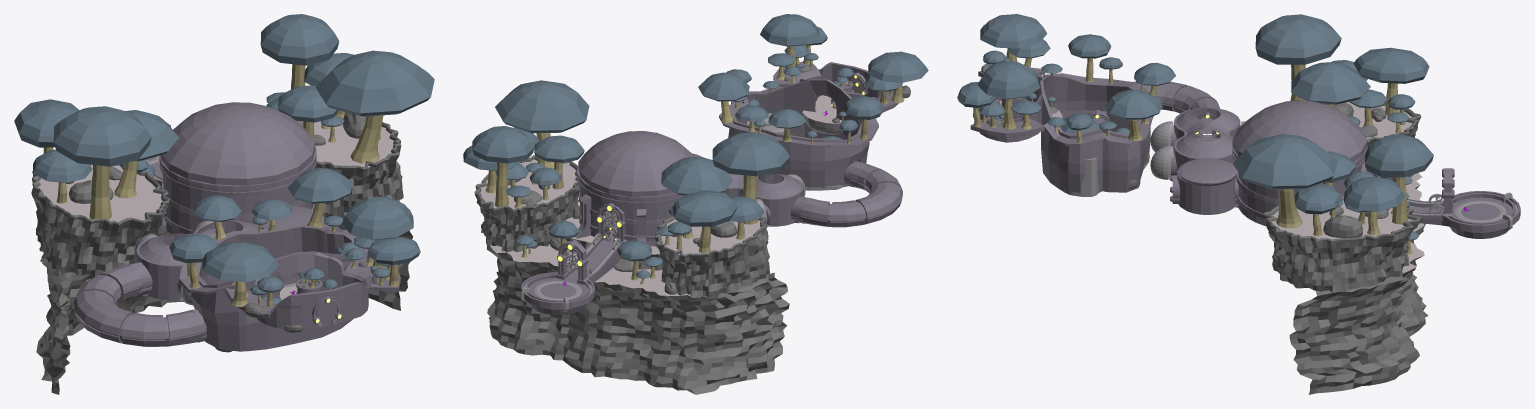
The model's file is Templo.fbx.
The picture shows the model from 3 angles, left to right: view 1: azimuth 30°, elevation 25°; view 2: azimuth 150°, elevation 25°; view 3: azimuth 270°, elevation 25°; orthographic projection. The views are drawn at different scales.
Visible parts, largest first — view 1: Circle, Circle.034, Morrinho, Circle.015, Torus.001, Circle.012, Circle.036, Montanha, Morrinho2, Circle.024, Circle.037, Circle.042 (+18 smaller); view 2: Montanha, Circle, Circle.034, Morrinho, Morrinho2, Circle.015, Torus.001, Circle.012, Circle.024, Circle.037, Circle.011, Circle.008 (+15 smaller); view 3: Montanha, Circle, Circle.034, Morrinho2, Circle.015, Circle.012, Circle.026, Circle.037, Circle.024, Circle.008, Circle.011, Circle.046 (+16 smaller).
Boxes of the visible parts, left/top/right/bottom form: Circle: left=145, top=102, right=316, bottom=233; Circle.034: left=179, top=222, right=368, bottom=351; Morrinho: left=31, top=164, right=169, bottom=276; Circle.015: left=315, top=50, right=434, bottom=163; Torus.001: left=73, top=263, right=206, bottom=346; Circle.012: left=53, top=106, right=151, bottom=219; Circle.036: left=225, top=252, right=400, bottom=328; Montanha: left=36, top=200, right=413, bottom=394; Morrinho2: left=314, top=121, right=403, bottom=218; Circle.024: left=260, top=14, right=339, bottom=89; Circle.037: left=136, top=220, right=262, bottom=300; Circle.042: left=202, top=242, right=278, bottom=306; Montanha: left=486, top=217, right=789, bottom=394; Circle: left=520, top=131, right=694, bottom=315; Circle.034: left=719, top=79, right=878, bottom=188; Morrinho: left=654, top=216, right=769, bottom=297; Morrinho2: left=474, top=155, right=579, bottom=252; Circle.015: left=495, top=80, right=589, bottom=168; Torus.001: left=797, top=161, right=902, bottom=227; Circle.012: left=712, top=132, right=789, bottom=224; Circle.024: left=472, top=126, right=534, bottom=206; Circle.037: left=723, top=172, right=803, bottom=226; Circle.011: left=673, top=190, right=737, bottom=252; Circle.008: left=661, top=157, right=733, bottom=195; Montanha: left=1289, top=173, right=1428, bottom=394; Circle: left=1232, top=100, right=1520, bottom=238; Circle.034: left=1038, top=73, right=1153, bottom=194; Morrinho2: left=1263, top=196, right=1421, bottom=292; Circle.015: left=1233, top=134, right=1337, bottom=228; Circle.012: left=1255, top=14, right=1341, bottom=100; Circle.026: left=1177, top=158, right=1237, bottom=214; Circle.037: left=1174, top=107, right=1240, bottom=175; Circle.024: left=1365, top=134, right=1433, bottom=224; Circle.008: left=1291, top=62, right=1370, bottom=108; Circle.011: left=1353, top=47, right=1429, bottom=114; Circle.046: left=977, top=61, right=1039, bottom=129.
Size of the model in its own units: 21257 by 13683 by 28236.
